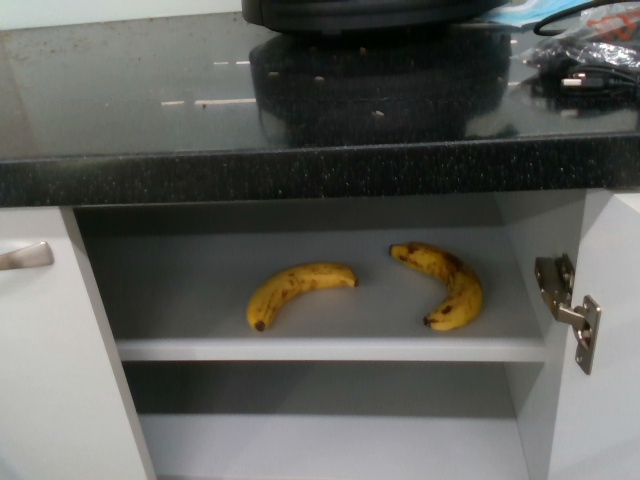banana: (382, 240, 486, 334), (245, 260, 357, 335)
